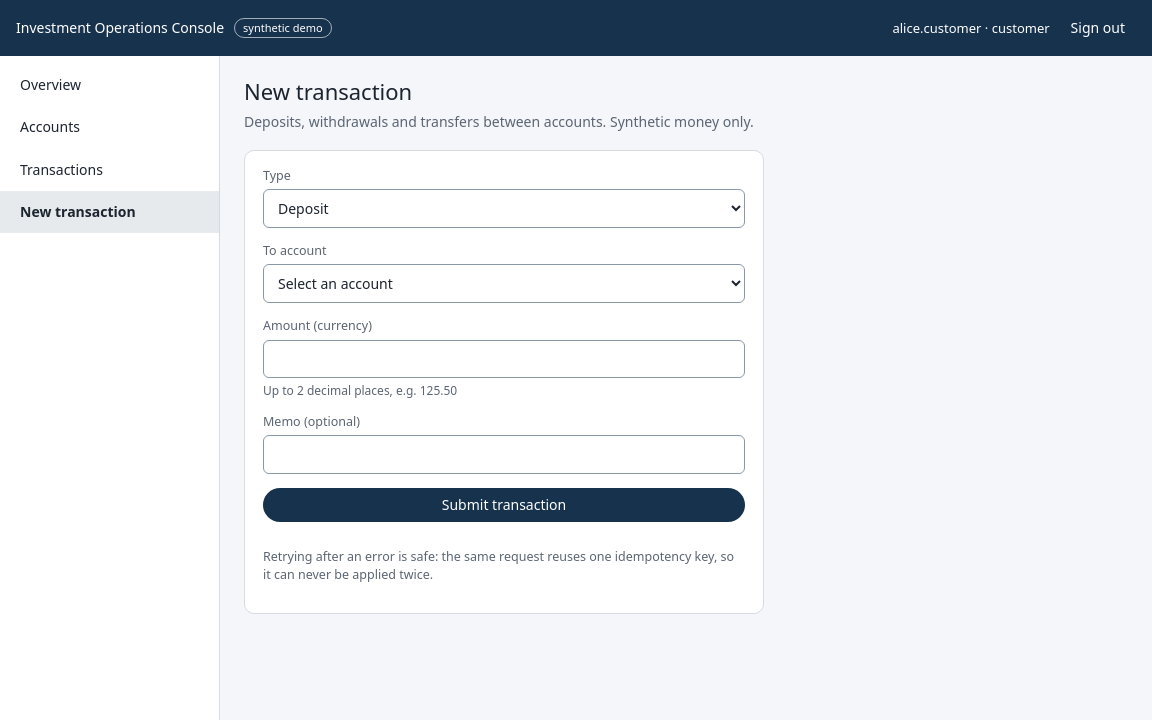
Scenario: TransactionNew › derives the currency from the selected account and sends amounts as strings
The image size is (1152, 720).
Expected: the heading "New transaction" is shown, [244, 76, 412, 106]
Select "ACC-1000000001 · USD" in the dropdown labelled "To account" at (504, 284), box [263, 264, 745, 303]
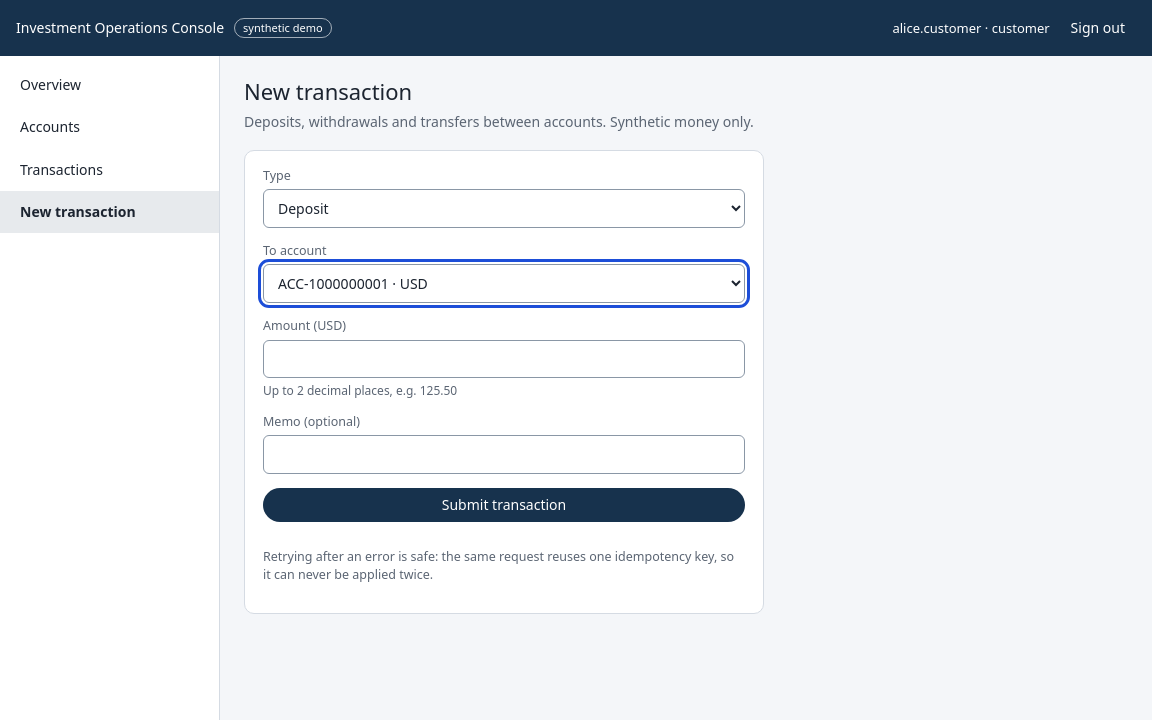
Type "25.50" into the field labelled "Amount (USD)".
click(504, 359); type("25.50")  # box [263, 340, 745, 378]
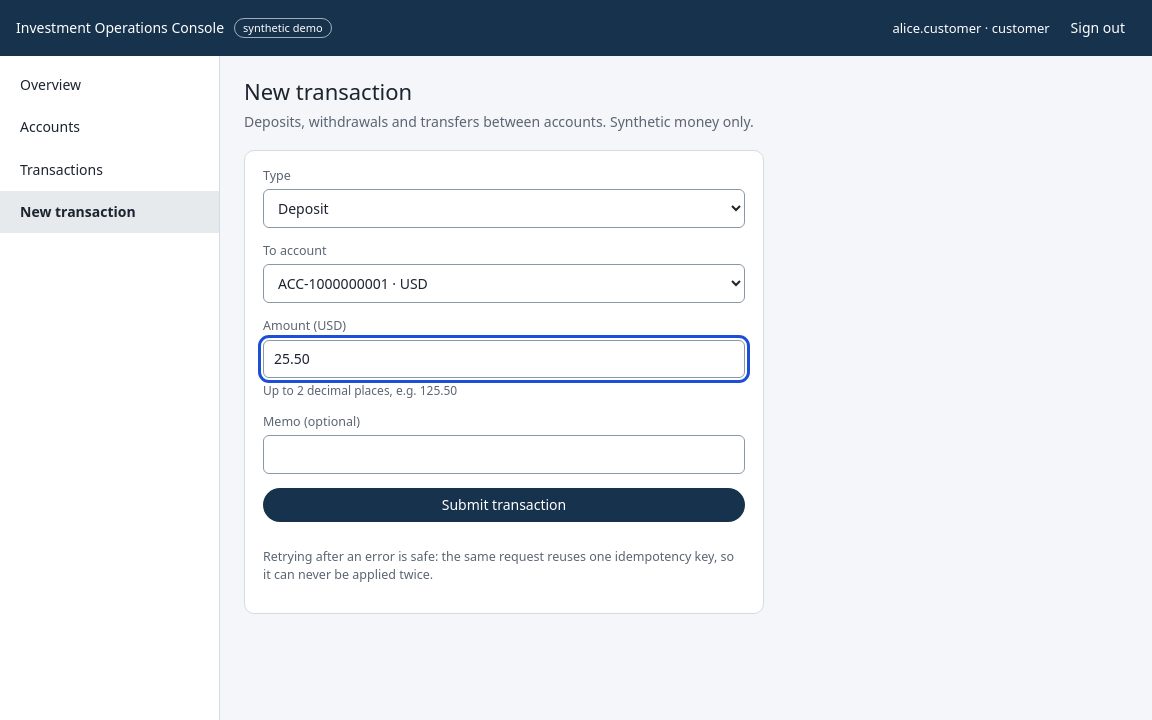
Click the button "Submit transaction".
click(504, 505)  # box [263, 488, 745, 522]
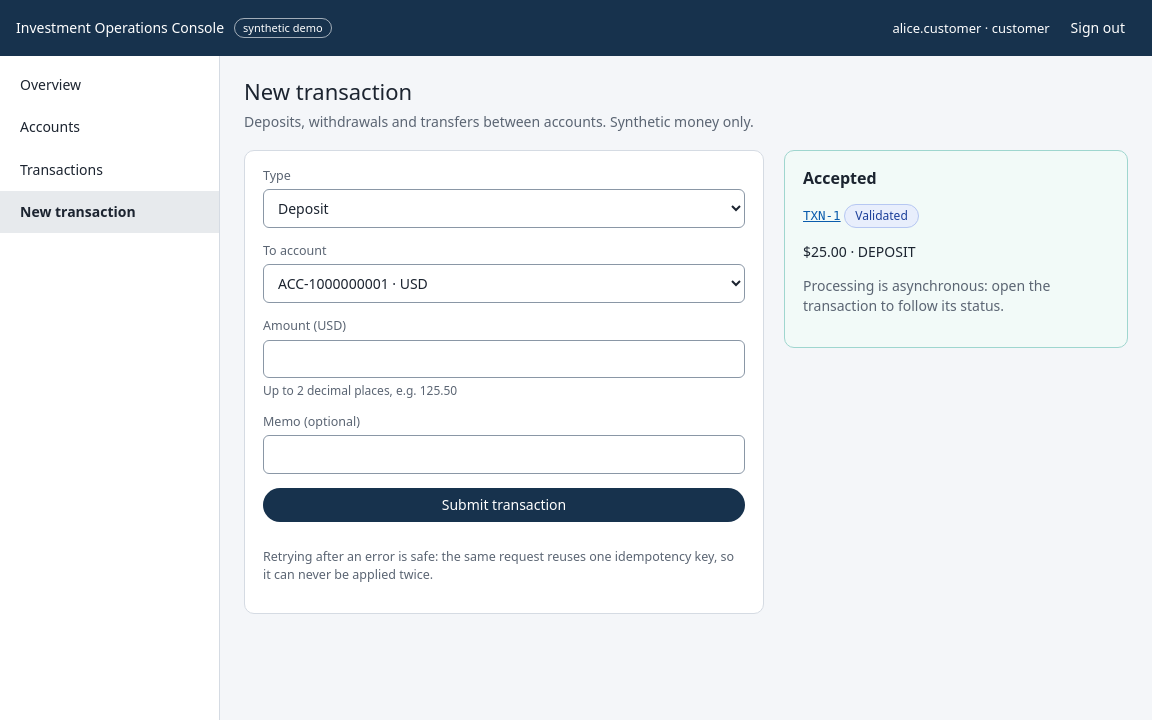
Result: the heading "Accepted" is shown at [803, 167, 877, 189]
Result: the link "TXN-1" is shown at [803, 208, 841, 223]
